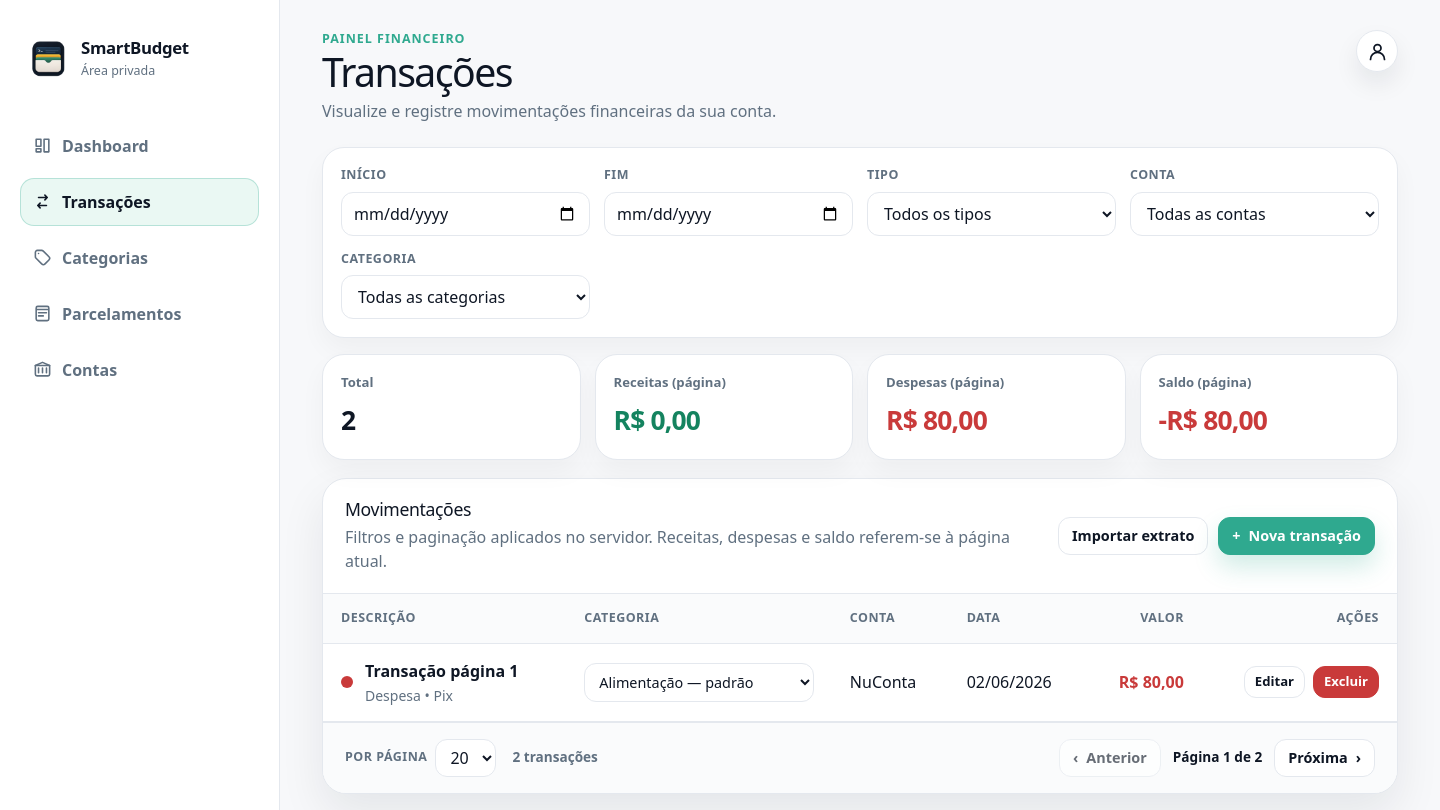
Test: Tela de listagem de Transações (Issue #155) › deve navegar entre páginas e solicitar listagem com page correto
expect the text "Transação página 1" is shown: met, box x1=365 y1=659 x2=518 y2=683
expect the button "‹ Anterior" is disabled: met, box x1=1059 y1=739 x2=1161 y2=777
Click the button "Próxima ›" at (1325, 758), box x1=1274 y1=739 x2=1375 y2=777
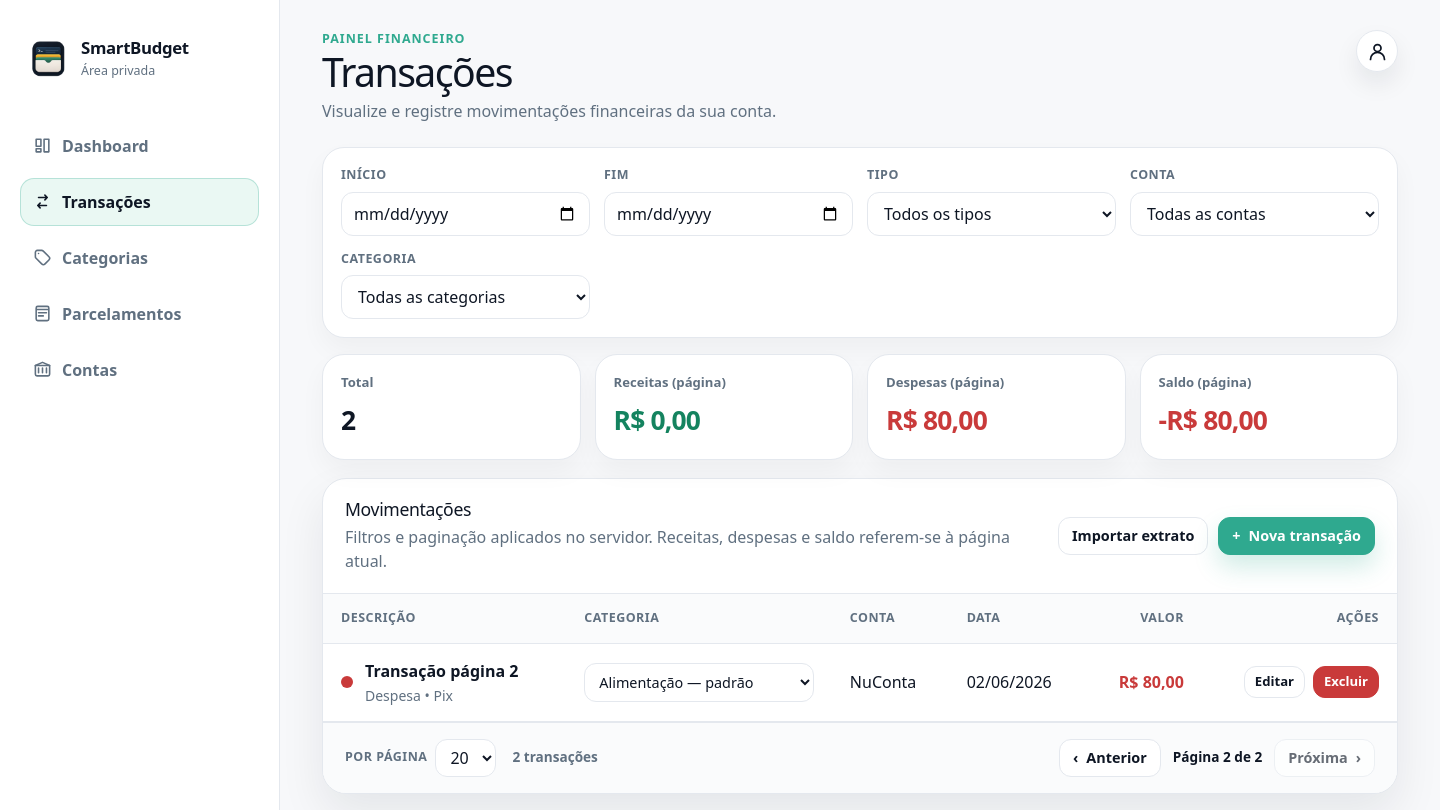
expect the text "Transação página 2" is shown: met, box x1=365 y1=659 x2=518 y2=683
Click the button "‹ Anterior" at (1110, 758), box x1=1059 y1=739 x2=1161 y2=777
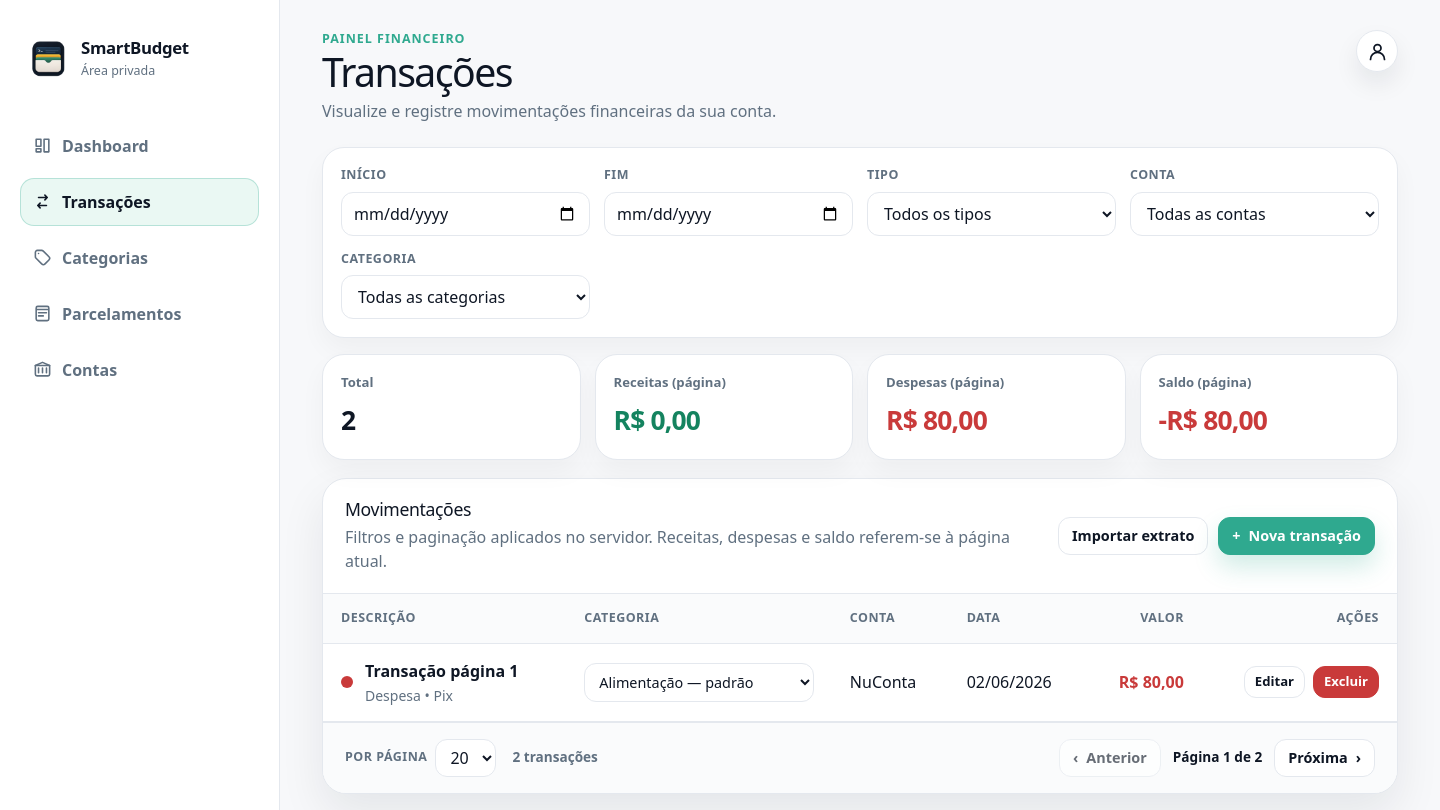
expect the text "Transação página 1" is shown: met, box x1=365 y1=659 x2=518 y2=683
